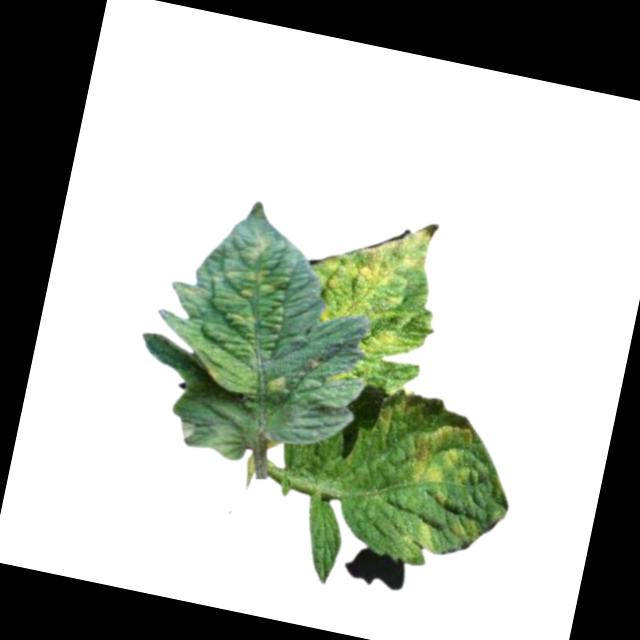Leaf_Mold: (150, 215, 307, 399), (312, 205, 443, 363), (406, 418, 489, 499), (412, 514, 440, 552)
